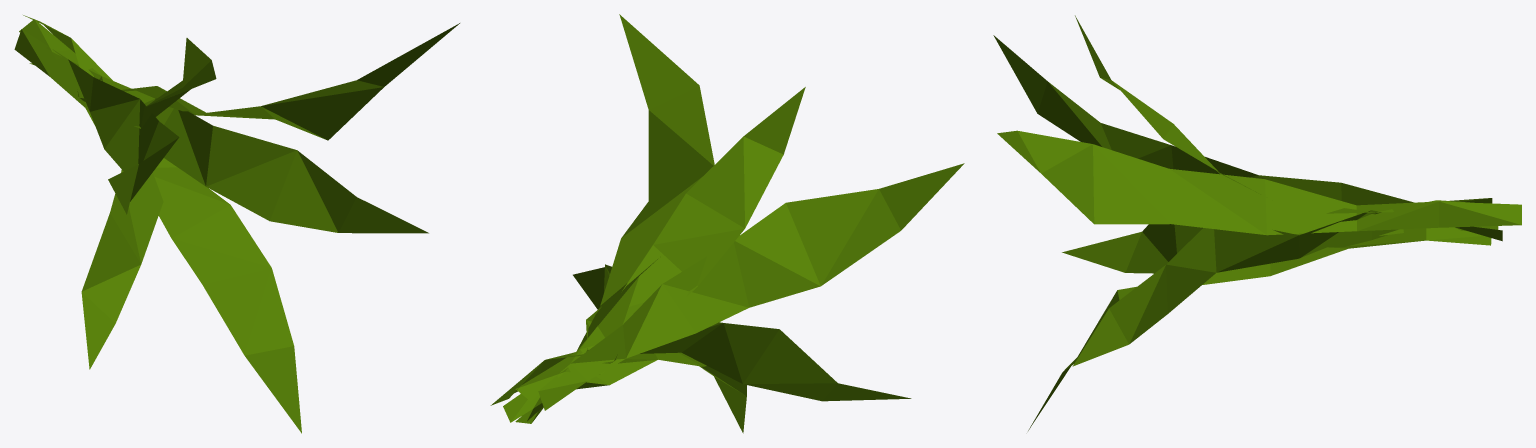
Rendered from BeachPlant1.glb.
The picture shows the model from 3 angles, left to right: view 1: azimuth 30°, elevation 25°; view 2: azimuth 150°, elevation 25°; view 3: azimuth 270°, elevation 25°; orthographic projection. The views are drawn at different scales.
Parts seen in each view (by area): view 1: BeachPlant1; view 2: BeachPlant1; view 3: BeachPlant1.
Boxes of the visible parts, x1,y1,x2,y2 form: BeachPlant1: (14,15,459,433); BeachPlant1: (490,14,964,433); BeachPlant1: (993,15,1521,430).
Bounding box in the file's own units: 0.4315 × 0.4532 × 0.5742.
1 material, 1 textured.
